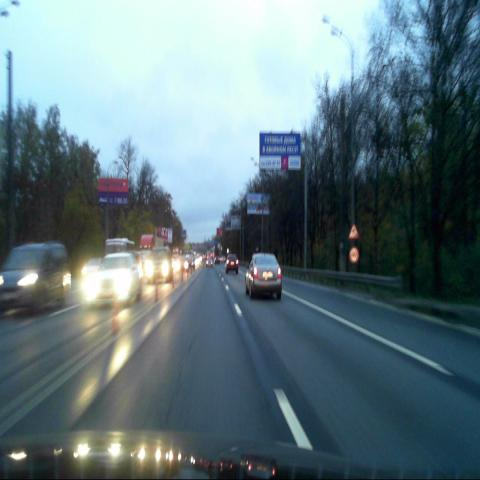1_25: (348, 223, 359, 240)
3_24: (349, 246, 359, 262)
